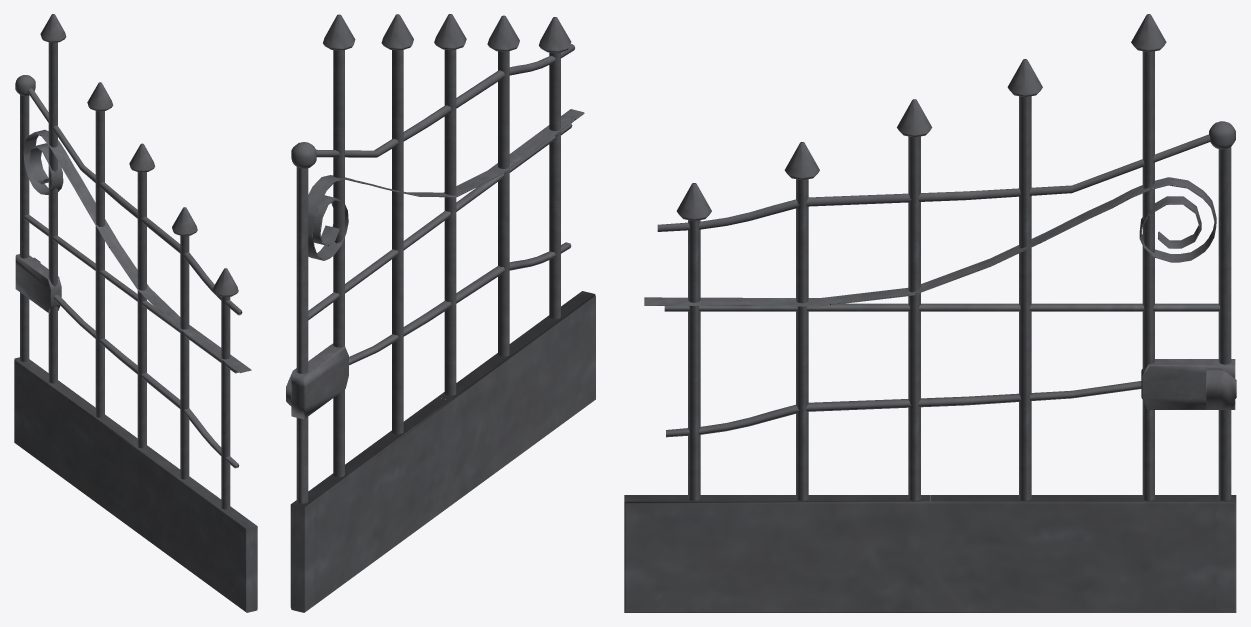
File: Gates_Left.fbx
3 renders of one model, left to right at view 1: azimuth 30°, elevation 25°; view 2: azimuth 150°, elevation 25°; view 3: azimuth 270°, elevation 25°, orthographic. The views are drawn at different scales.
Parts seen in each view (by area): view 1: Gates_Left; view 2: Gates_Left; view 3: Gates_Left.
Part boxes in pixels (<box>): Gates_Left: <box>14,14,257,612</box>; Gates_Left: <box>286,14,595,612</box>; Gates_Left: <box>624,14,1236,612</box>.
Bounding box in the file's own units: 18.74 × 346 × 322.
